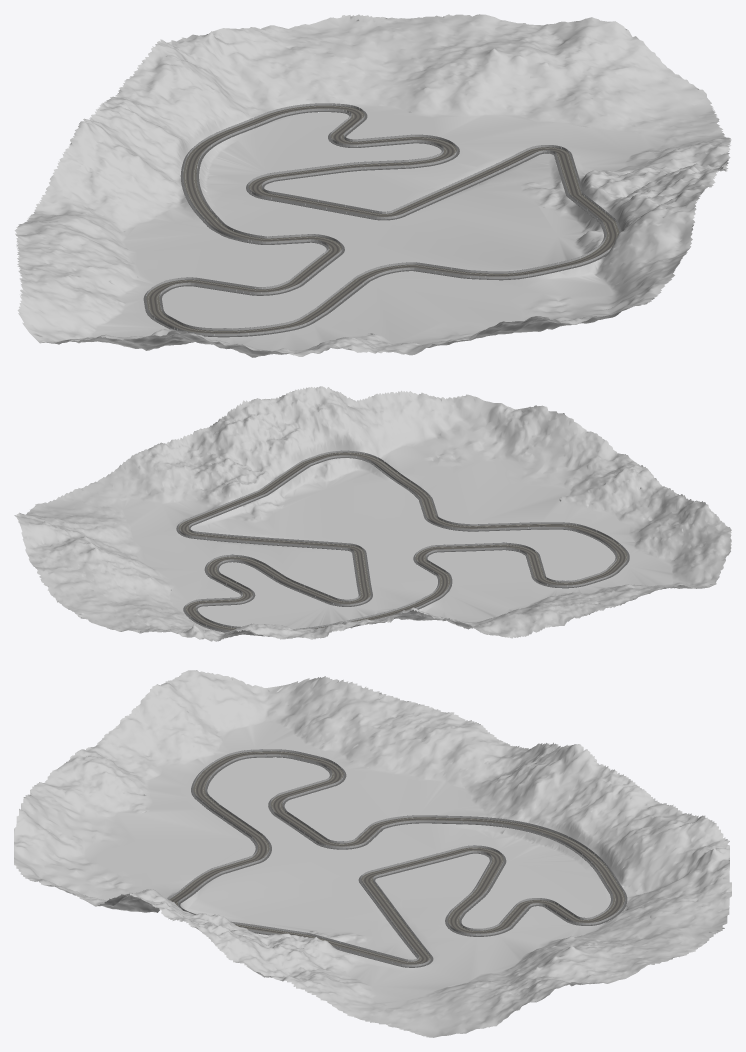
File: Track 01.fbx
3 views of the same model, one above another, from view 1: azimuth 30°, elevation 25°; view 2: azimuth 150°, elevation 25°; view 3: azimuth 270°, elevation 25° (orthographic). The views are drawn at different scales.
Visible parts, largest first — view 1: Terrain, Road, Fence; view 2: Terrain, Road, Fence; view 3: Terrain, Road, Fence.
Boxes of the visible parts, x1=… form: Terrain: x1=14, y1=14, x2=731, y2=357; Road: x1=143, y1=105, x2=621, y2=337; Fence: x1=146, y1=103, x2=619, y2=335; Terrain: x1=14, y1=386, x2=731, y2=641; Road: x1=176, y1=452, x2=629, y2=632; Fence: x1=178, y1=450, x2=627, y2=631; Terrain: x1=14, y1=670, x2=731, y2=1037; Road: x1=169, y1=751, x2=627, y2=967; Fence: x1=167, y1=749, x2=625, y2=966.
Bounding box in the file's own units: 11.14 × 1.06 × 10.
4 materials, 4 textured.
